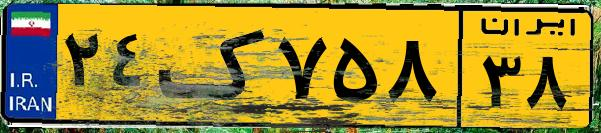2: (57, 26, 110, 100)
3: (475, 38, 525, 113)
4: (110, 28, 158, 98)
5: (330, 28, 385, 110)
7: (270, 28, 330, 110)
8: (385, 28, 445, 110), (525, 38, 570, 115)
ک: (158, 12, 270, 120)
